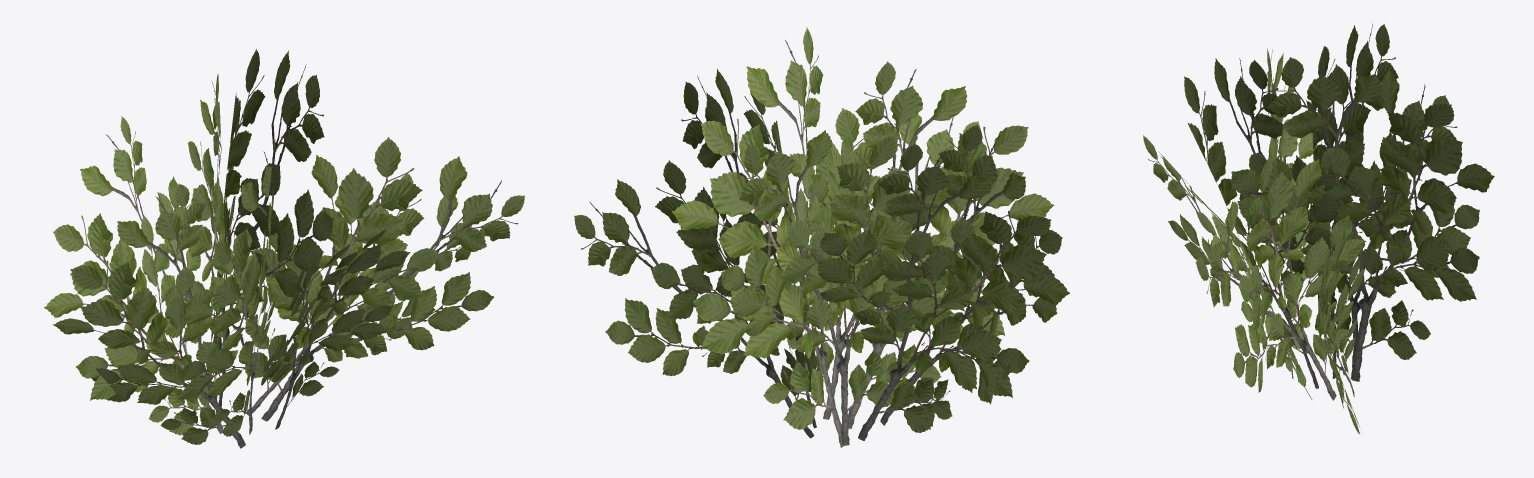
The model's file is bush.fbx.
3 renders of one model, left to right at view 1: azimuth 30°, elevation 25°; view 2: azimuth 150°, elevation 25°; view 3: azimuth 270°, elevation 25°, orthographic. The views are drawn at different scales.
Visible parts, largest first — view 1: bush; view 2: bush; view 3: bush.
Part boxes in pixels (x1=…): bush: x1=44, y1=49, x2=524, y2=448; bush: x1=574, y1=27, x2=1069, y2=447; bush: x1=1143, y1=24, x2=1494, y2=433.
Bounding box in the file's own units: 293 × 216 × 193.
